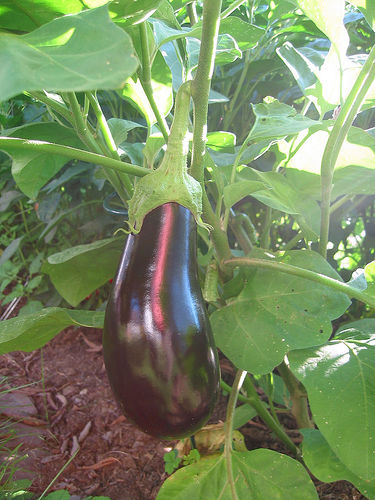eggplant: (91, 155, 228, 442)
